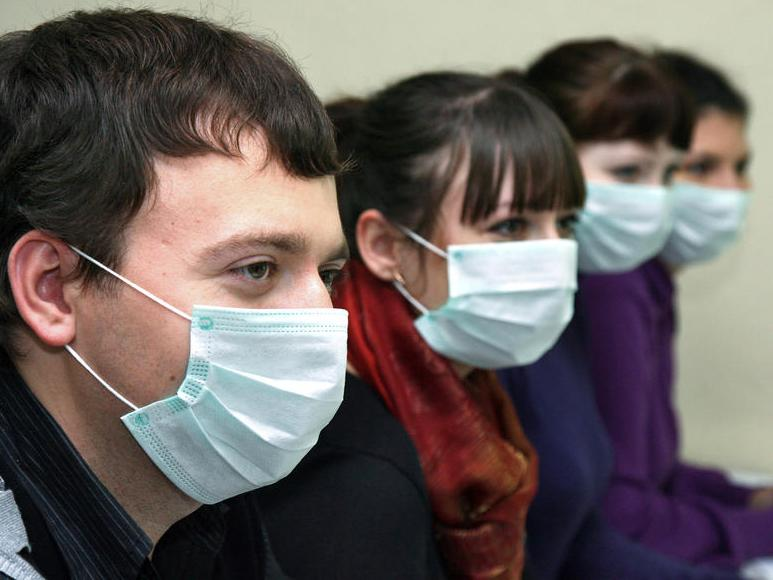mask: (97, 152, 359, 497), (416, 139, 585, 375), (667, 98, 754, 268), (580, 136, 678, 273)
